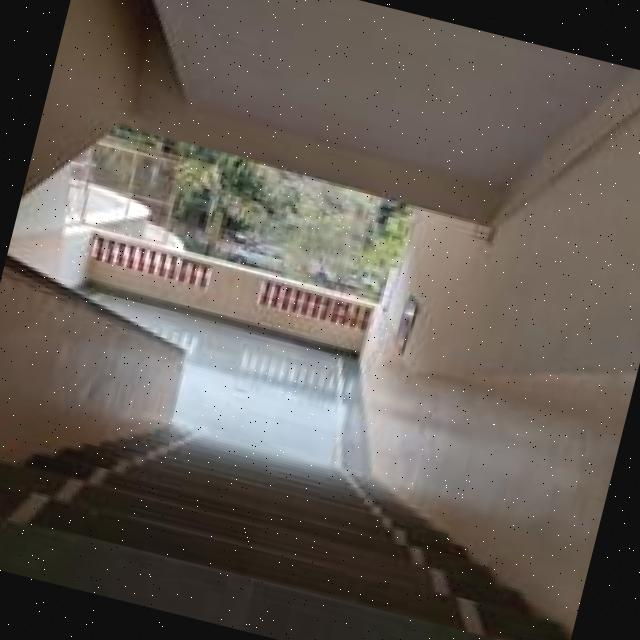stairs: (0, 233, 630, 640)
